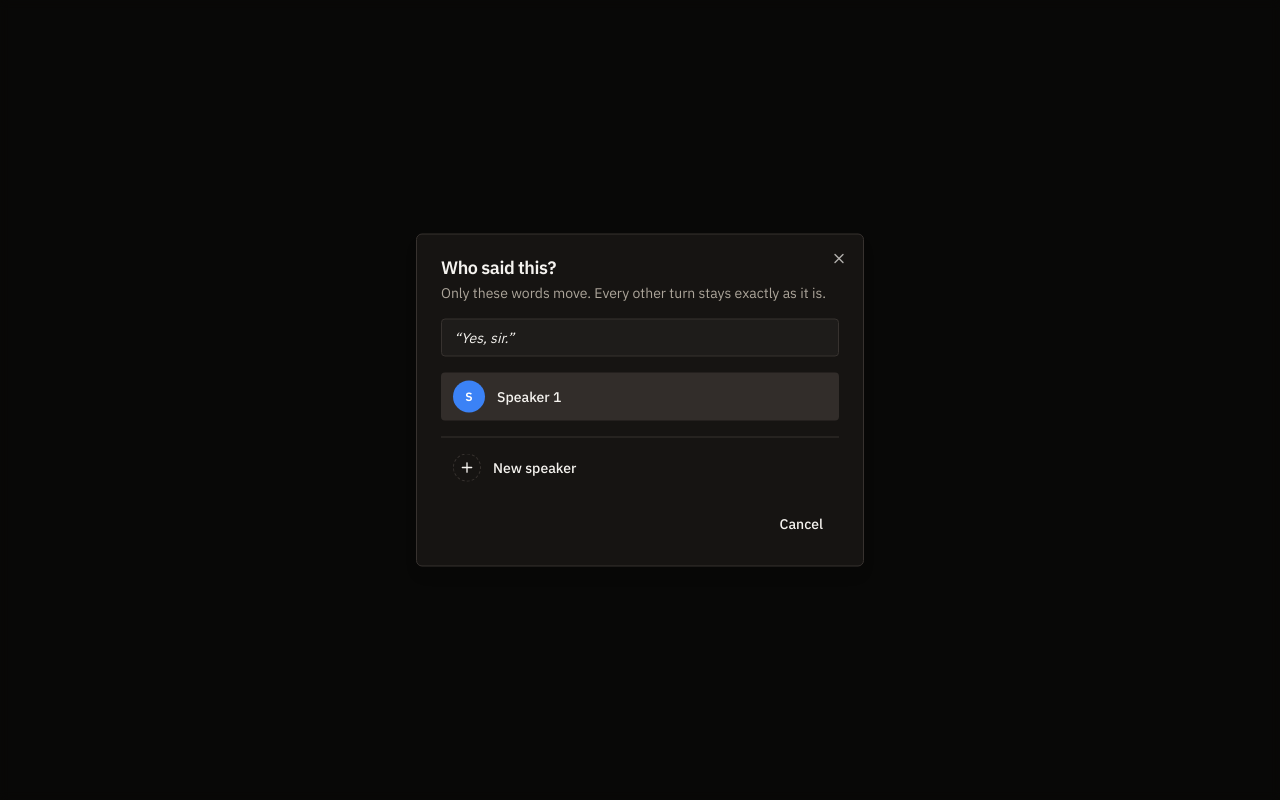
Scenario: assigning to a speaker who is not in the meeting › does not create anything on the first press
Step 1. Click the button "New speaker" → (535, 468), box [441,446,839,490]
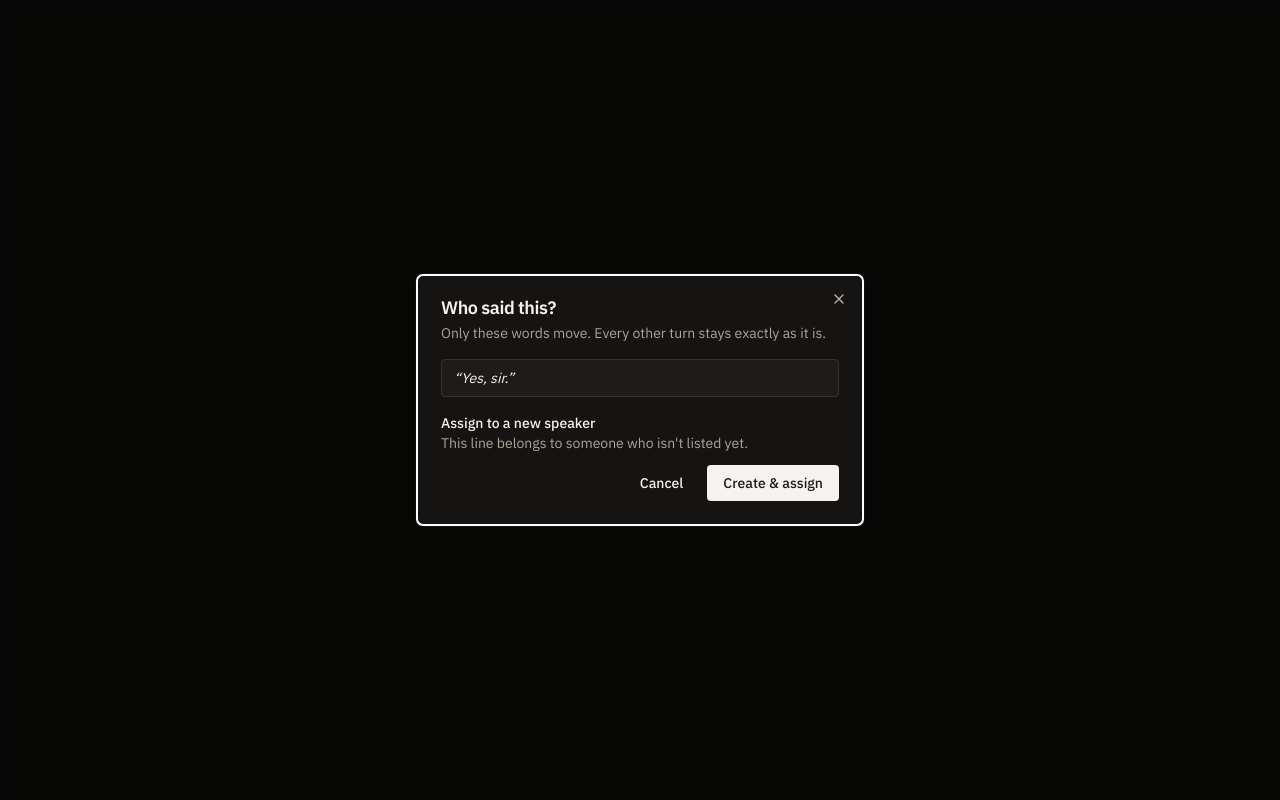
Now the text "Assign to a new speaker" is shown, box [441,414,595,432]
Now the text "This line belongs to someone who isn't listed yet." is shown, box [441,434,748,452]
